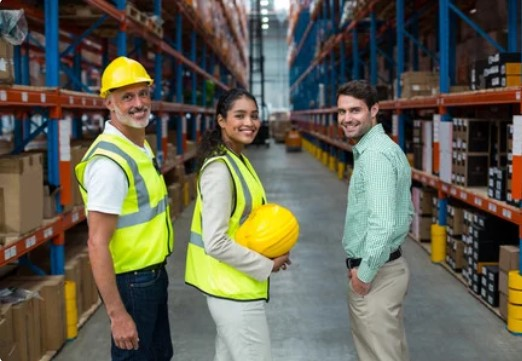worker: (81, 56, 173, 262), (187, 98, 271, 301)
